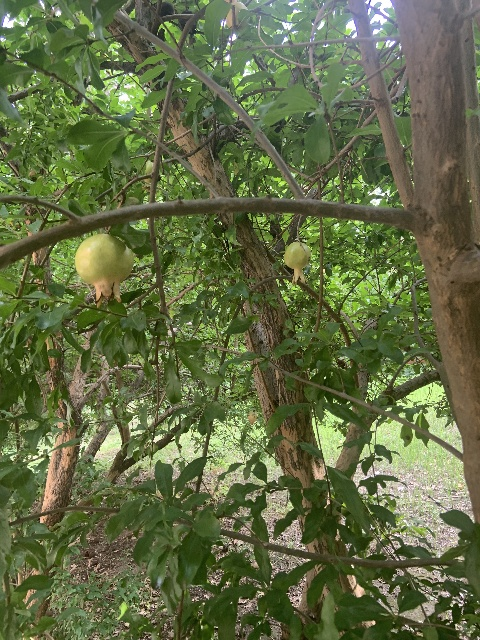mid-growth: (73, 233, 134, 307), (283, 241, 311, 285), (141, 160, 160, 192), (247, 411, 258, 425)
